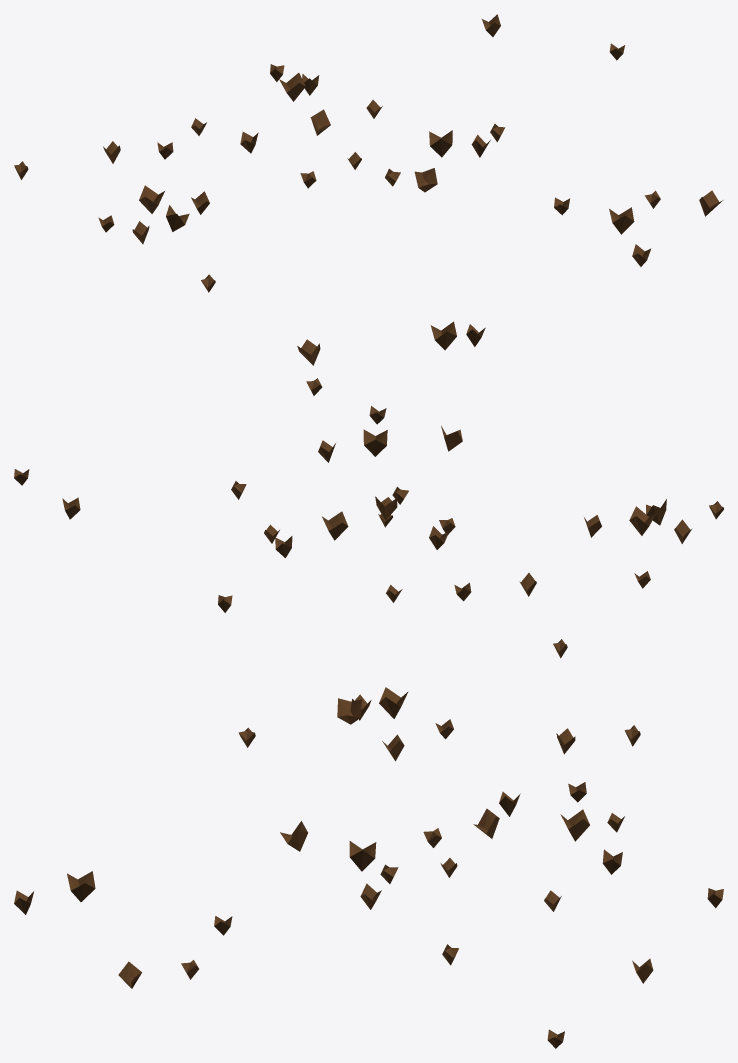
File: SM_Flower_Random_Floating_Group_B.fbx
The picture shows the model from 3 angles, top to bottom: view 1: azimuth 30°, elevation 25°; view 2: azimuth 150°, elevation 25°; view 3: azimuth 270°, elevation 25°; orthographic projection. The views are drawn at different scales.
Visible parts, largest first — view 1: flower-random-floating-group-b; view 2: flower-random-floating-group-b; view 3: flower-random-floating-group-b.
Boxes of the visible parts, box(x1,y1,x2,y2) form: flower-random-floating-group-b: box(14, 14, 723, 292); flower-random-floating-group-b: box(14, 321, 723, 658); flower-random-floating-group-b: box(14, 687, 723, 1048).
Size of the model in its own units: 2.45 by 0.2487 by 2.3.
